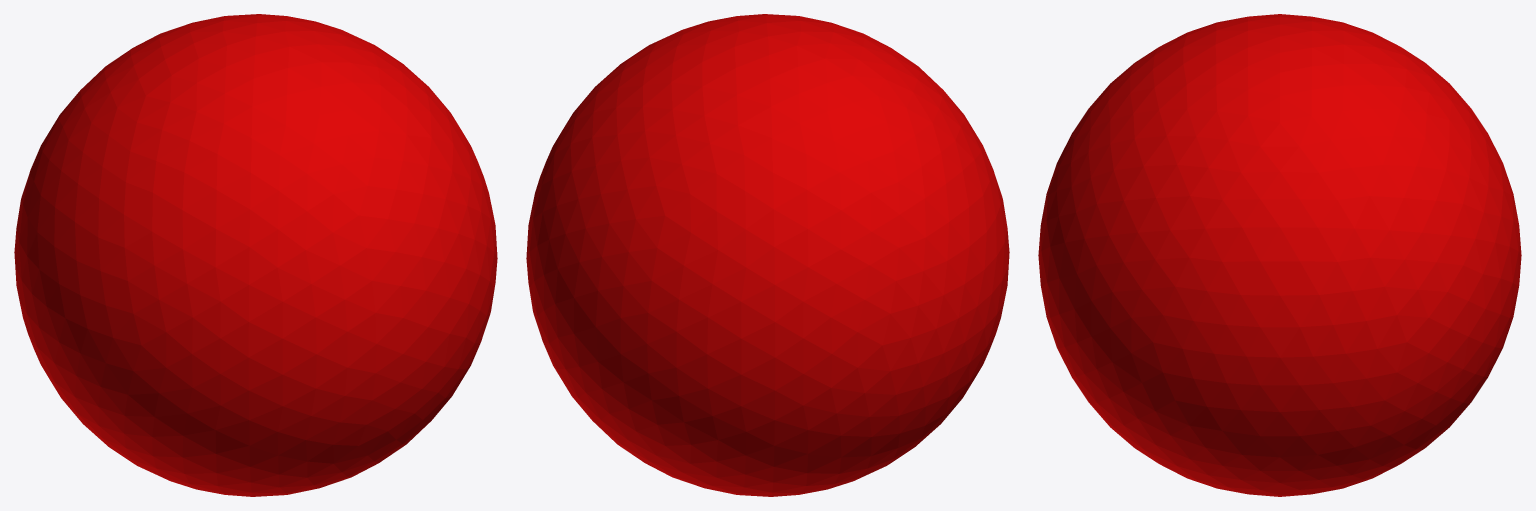
The model's file is model_8cf895578edc.glb.
3 renders of one model, left to right at view 1: azimuth 30°, elevation 25°; view 2: azimuth 150°, elevation 25°; view 3: azimuth 270°, elevation 25°, orthographic.
Visible parts, largest first — view 1: world; view 2: world; view 3: world.
Boxes of the visible parts, <box> form: world: <box>14,14,497,496</box>; world: <box>526,14,1009,496</box>; world: <box>1038,14,1521,496</box>.
Size of the model in its own units: 2 by 2 by 2.
